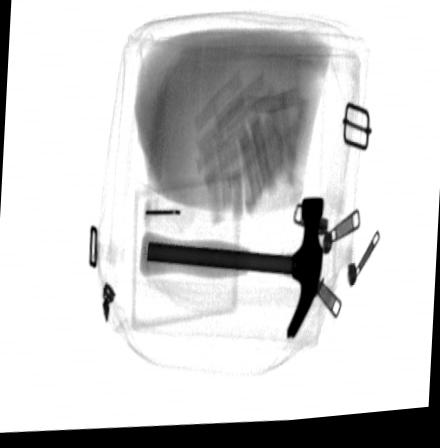Hammer: (136, 203, 324, 346)
